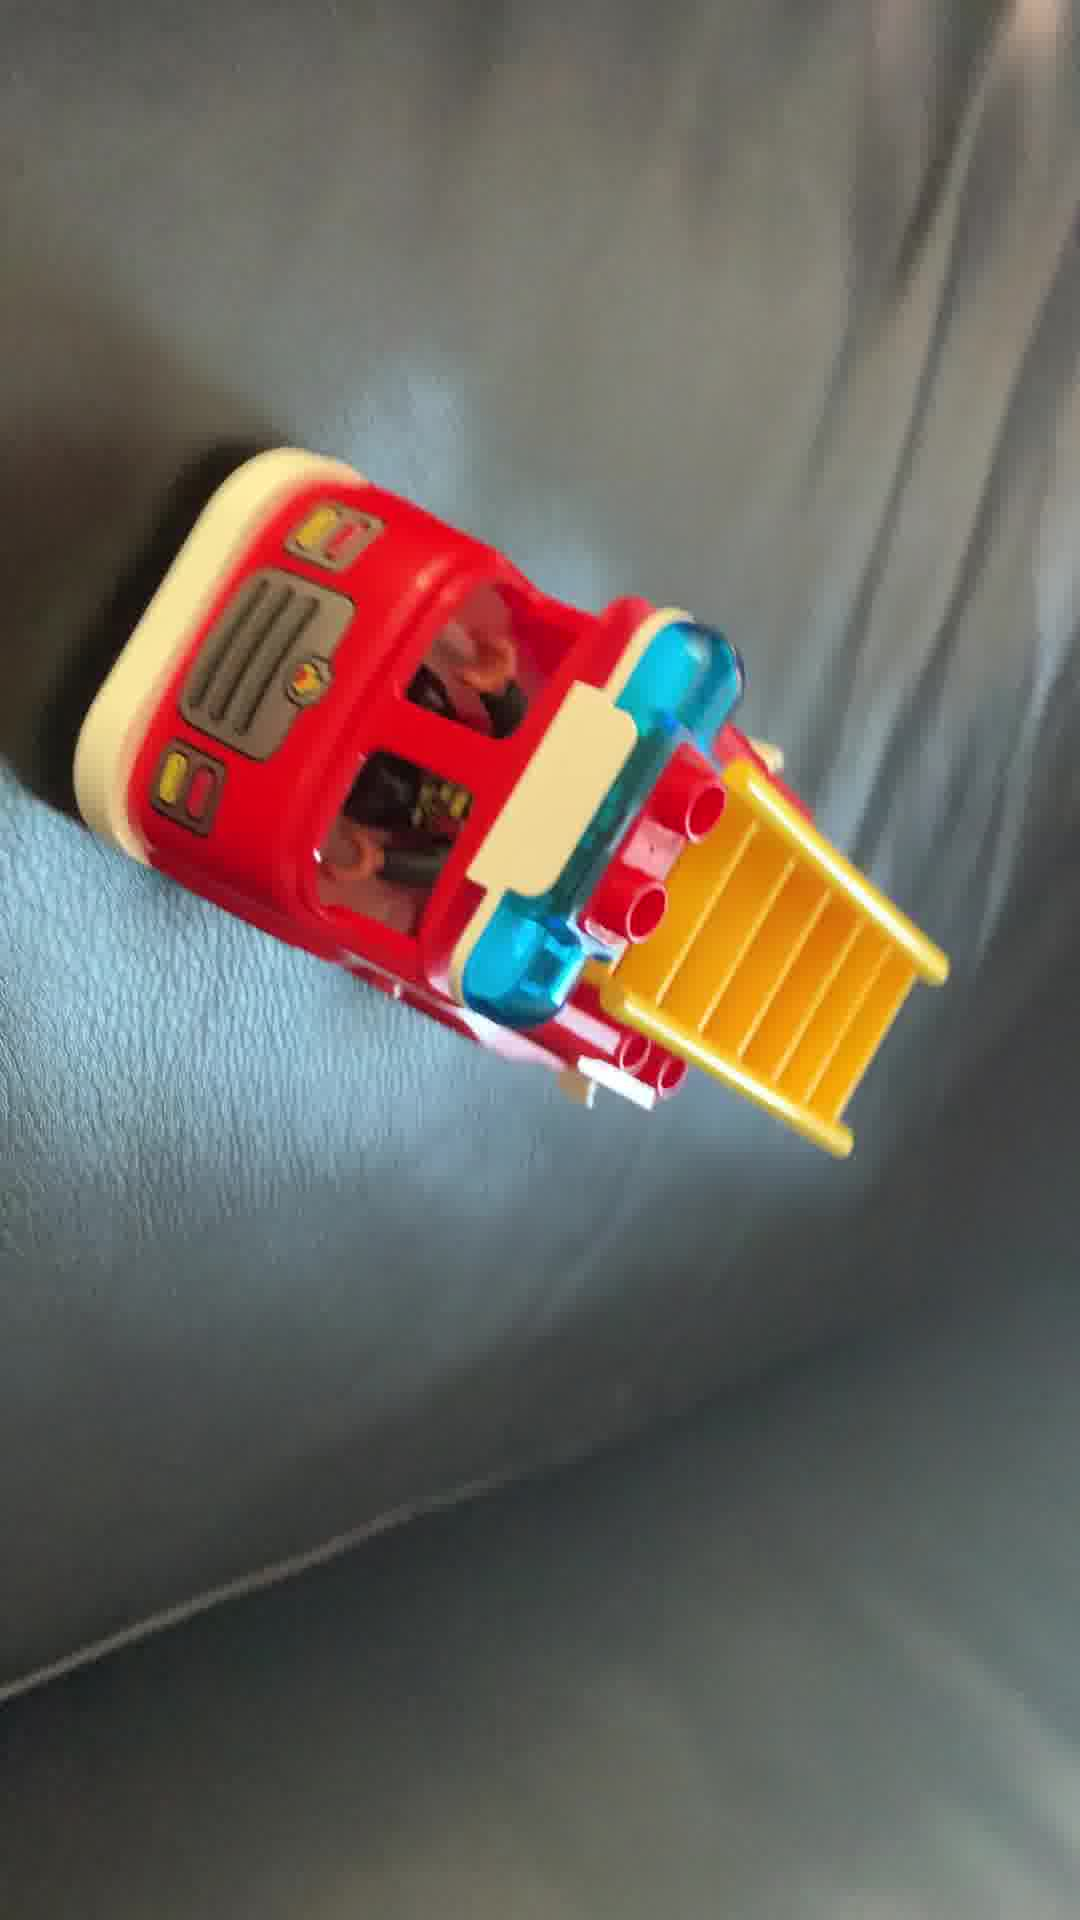lego fire truck: (57, 434, 956, 1176)
